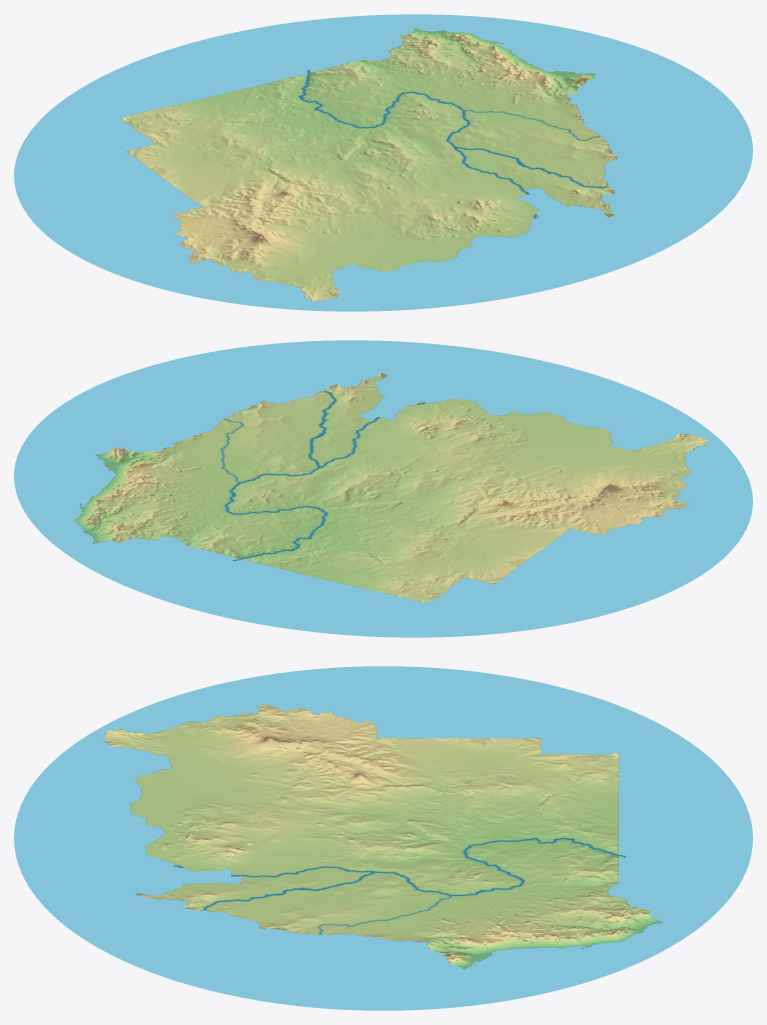
Rendered from SDN-terrain.glb.
3 renders of one model, top to bottom at view 1: azimuth 30°, elevation 25°; view 2: azimuth 150°, elevation 25°; view 3: azimuth 270°, elevation 25°, orthographic. The views are drawn at different scales.
Parts seen in each view (by area): view 1: Relevo com hidrografia; view 2: Relevo com hidrografia; view 3: Relevo com hidrografia.
Part boxes in pixels (x1=…): Relevo com hidrografia: x1=14, y1=14, x2=752, y2=311; Relevo com hidrografia: x1=14, y1=340, x2=752, y2=637; Relevo com hidrografia: x1=14, y1=666, x2=752, y2=1010.
Bounding box in the file's own units: 2.11 × 0.0271 × 1.91.
2 materials, 1 textured.
